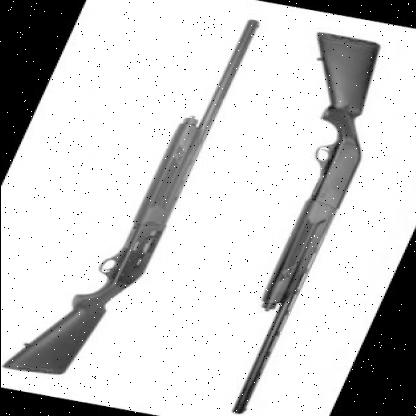rifle: (0, 0, 271, 387), (153, 33, 416, 415)
